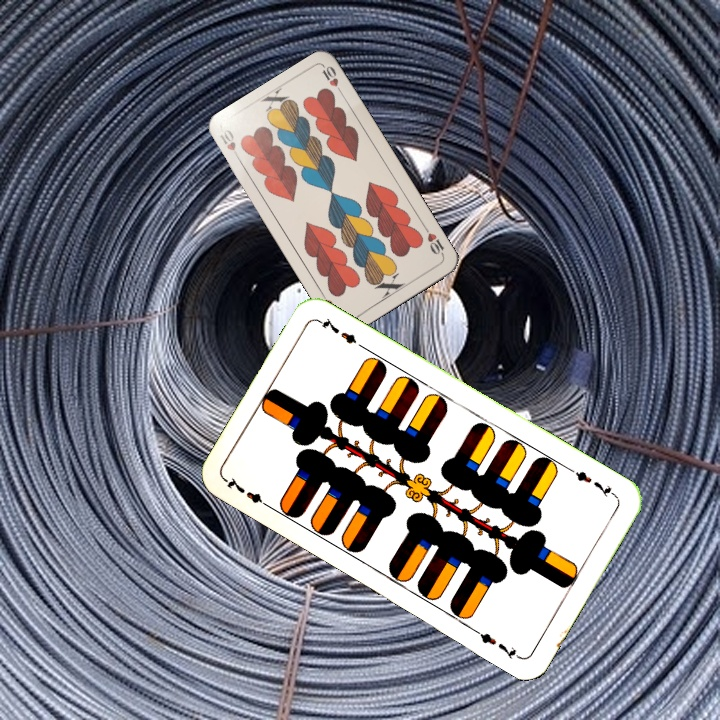E7: (222, 473, 275, 512), (565, 464, 619, 500)
H10: (215, 125, 243, 164), (420, 223, 447, 259)
